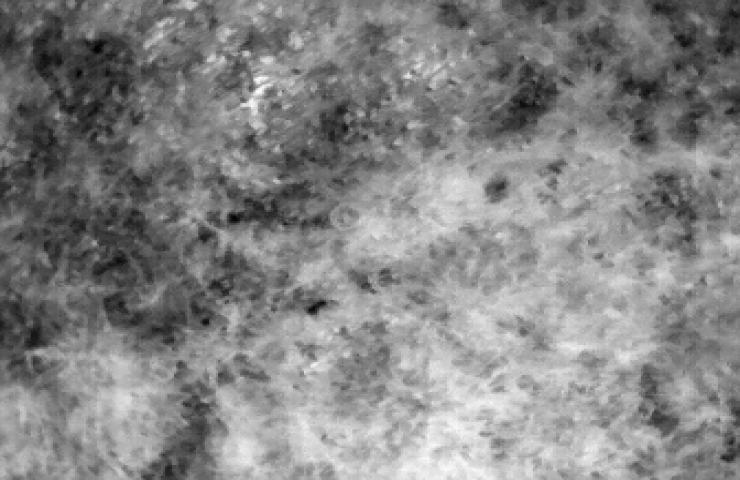landmines: (327, 200, 369, 237)
